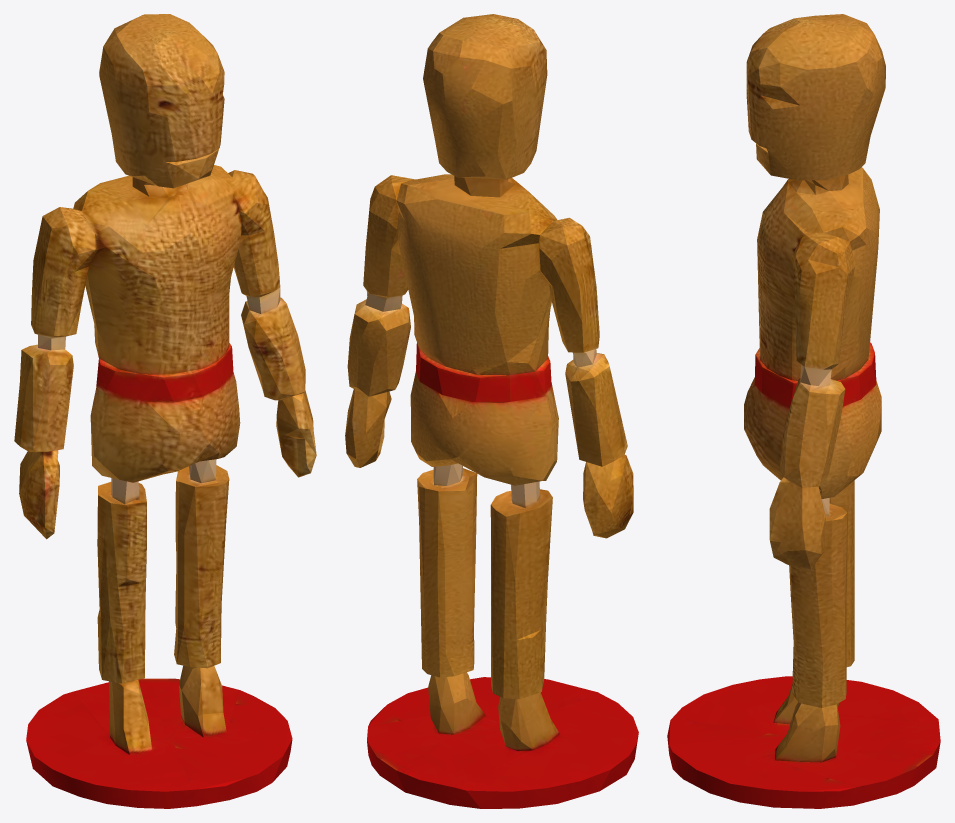
Rendered from dummy.glb.
The picture shows the model from 3 angles, left to right: view 1: azimuth 30°, elevation 25°; view 2: azimuth 150°, elevation 25°; view 3: azimuth 270°, elevation 25°; orthographic projection. The views are drawn at different scales.
Visible parts, largest first — view 1: model; view 2: model; view 3: model.
Part boxes in pixels (bbox=[...]): model: bbox=[14, 14, 316, 808]; model: bbox=[345, 14, 638, 808]; model: bbox=[667, 14, 940, 808].
Bounding box in the file's own units: 0.7805 × 1.9 × 0.6395.
1 material, 1 textured.
